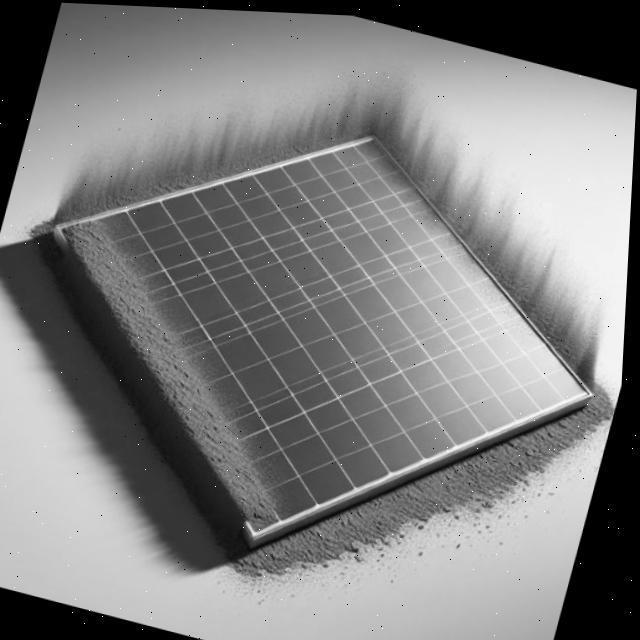Anomaly Solar Panel: (61, 29, 593, 582)
Surface Contaminant: (61, 196, 312, 533)
